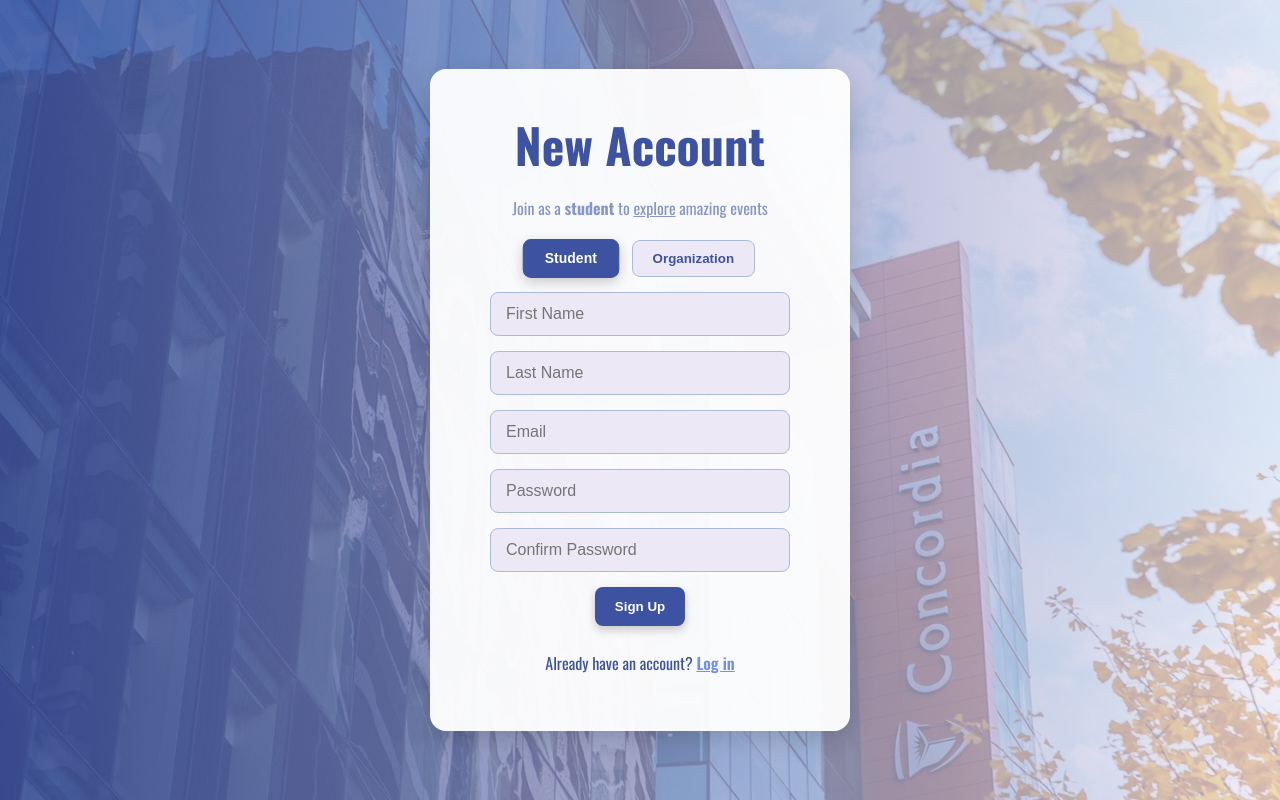
it: Signup Component › successful signup shows verify email screen
This screenshot has width=1280, height=800.
# Fill required fields
Type "John" into the field with placeholder "First Name" at (640, 314), box [490, 292, 790, 336]
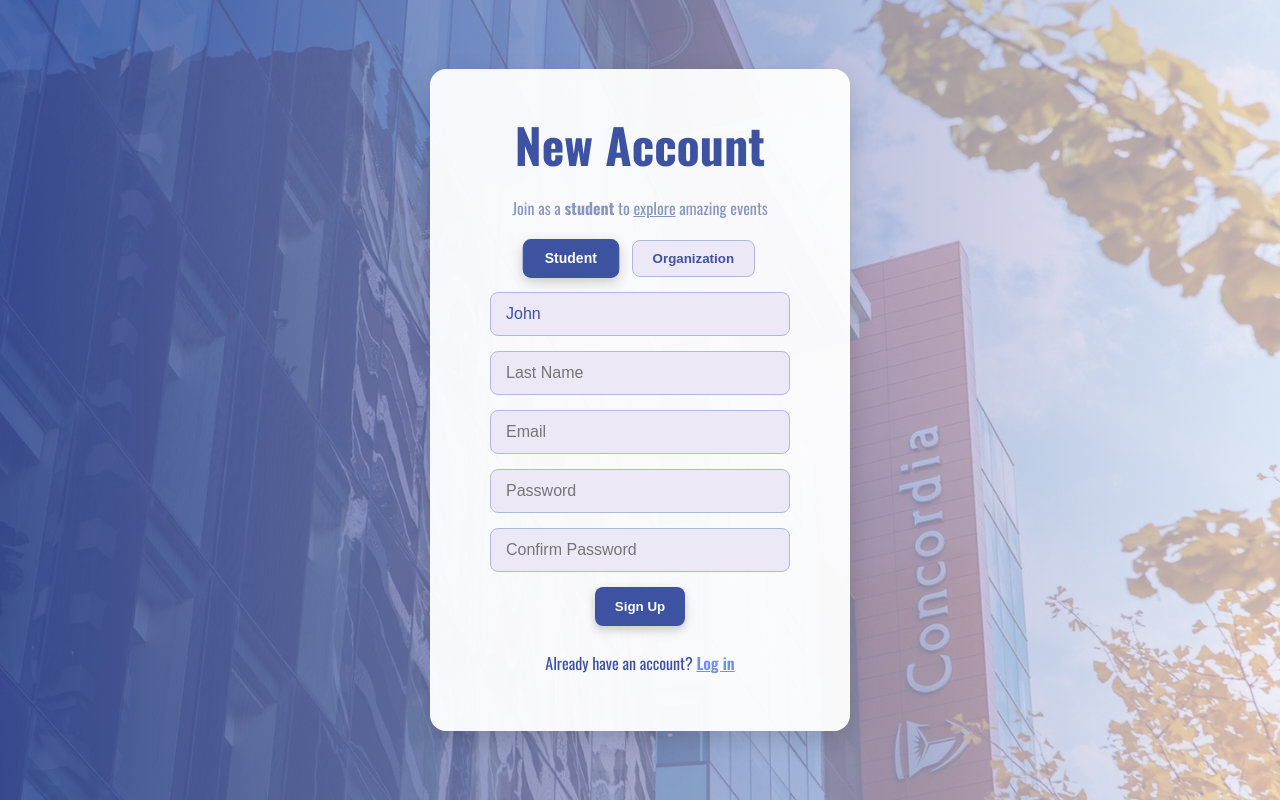
Type "Doe" into the field with placeholder "Last Name" at (640, 373), box [490, 351, 790, 395]
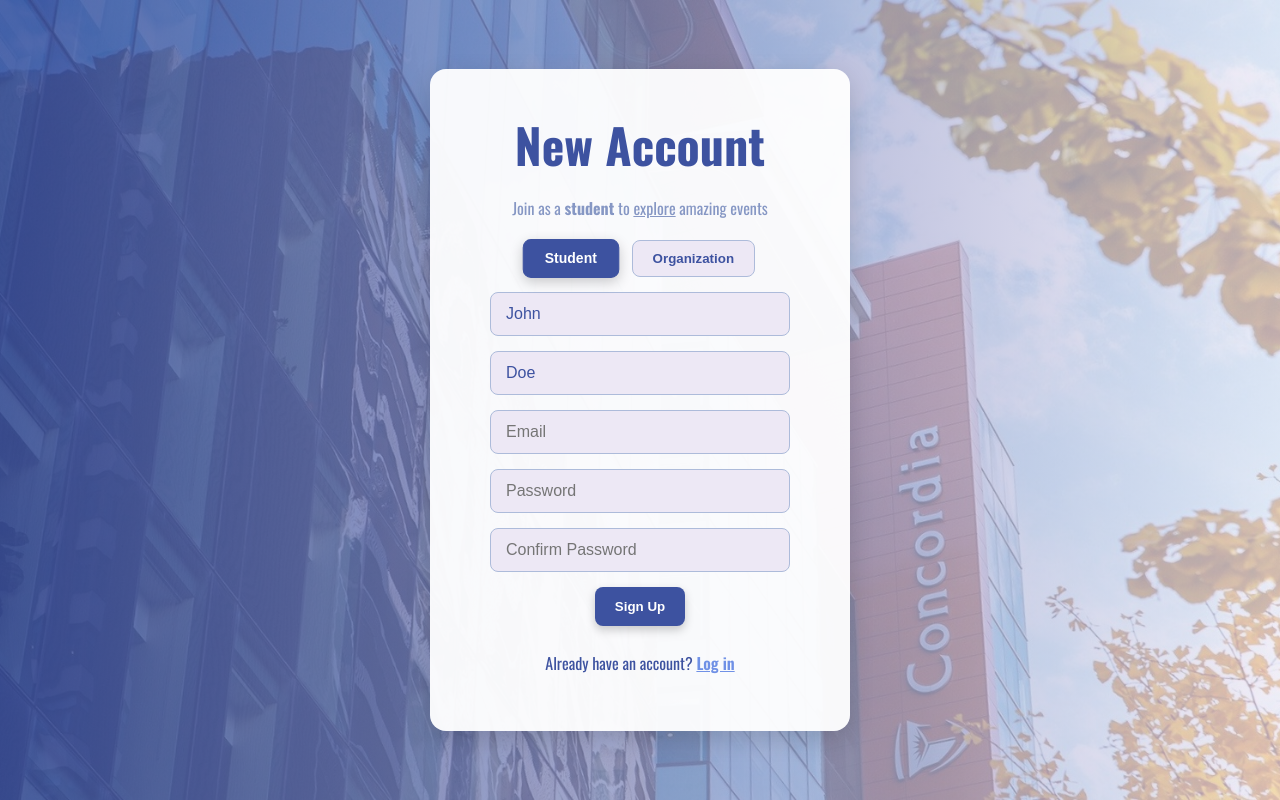
Type "test@example.com" into the field with placeholder "Email" at (640, 432), box [490, 410, 790, 454]
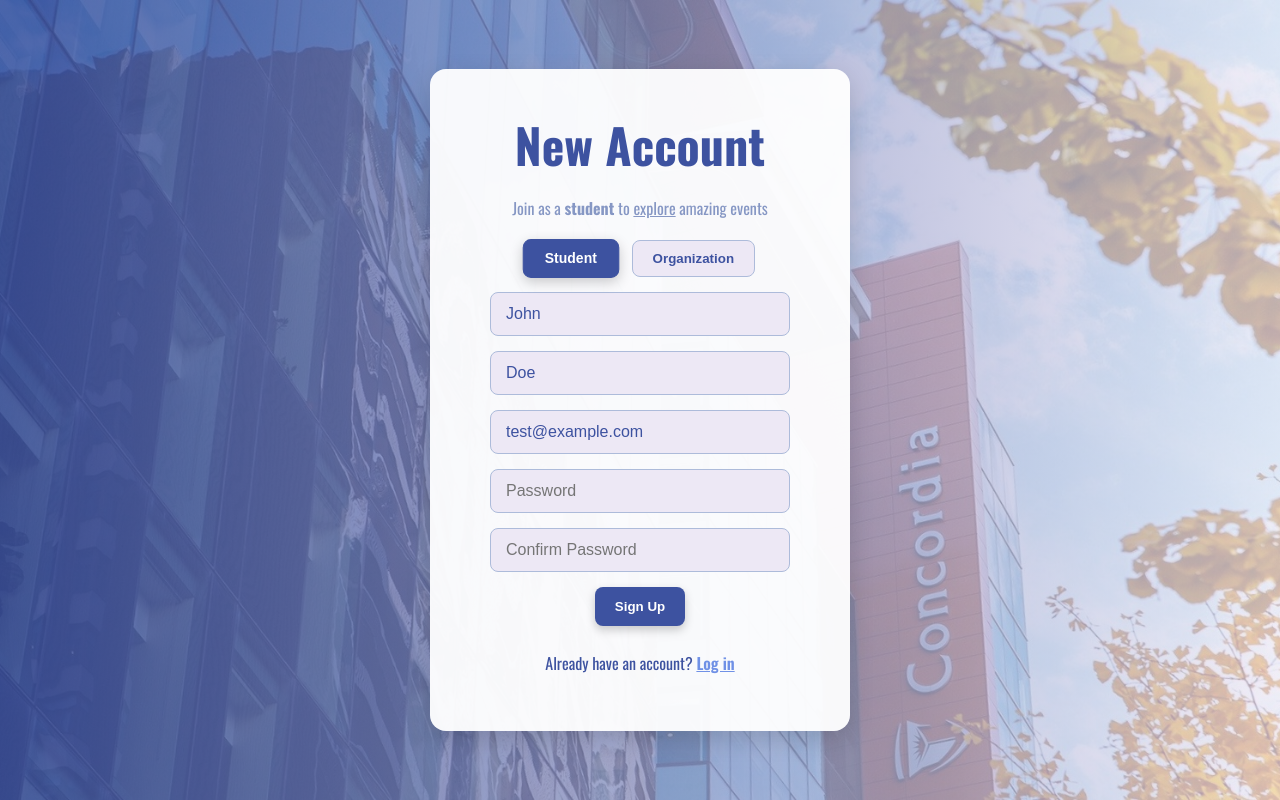
Type "Password1" into the password field with placeholder "Password" at (640, 491), box [490, 469, 790, 513]
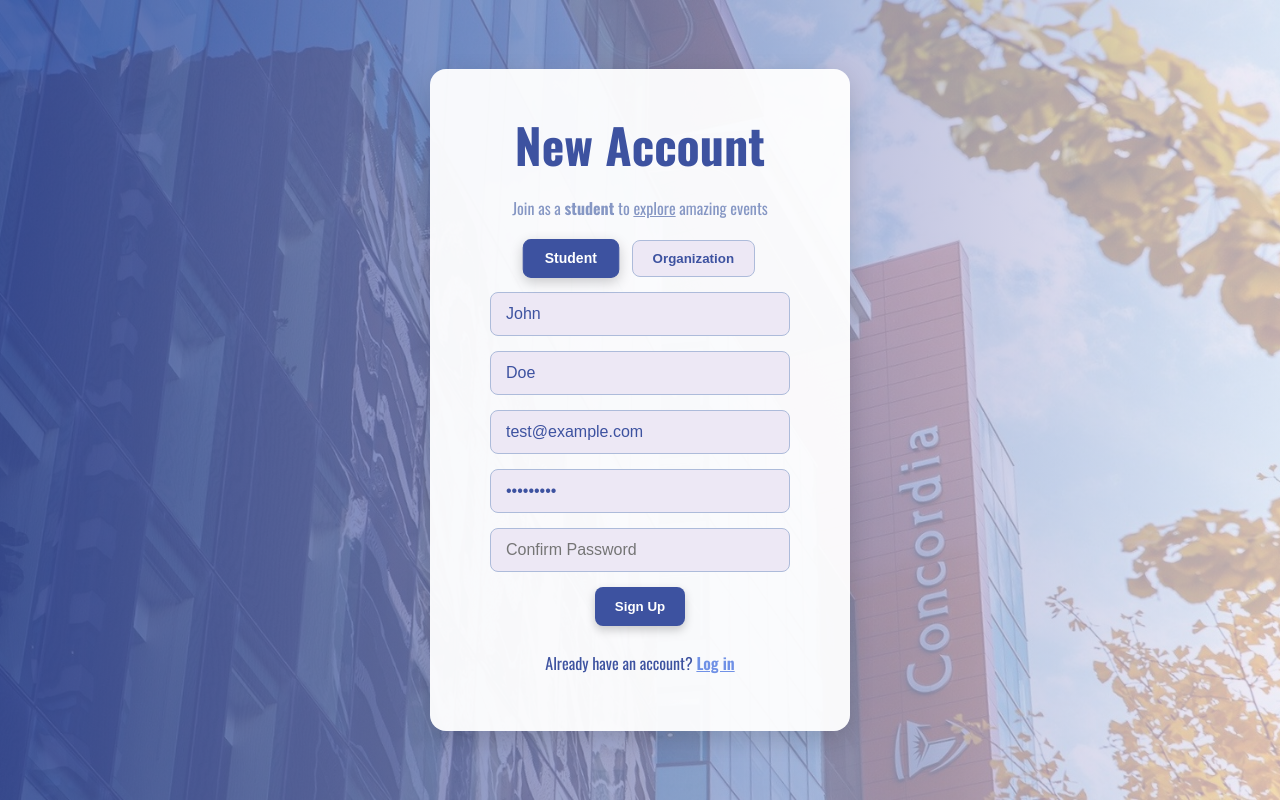
Type "Password1" into the password field with placeholder "Confirm Password" at (640, 550), box [490, 528, 790, 572]
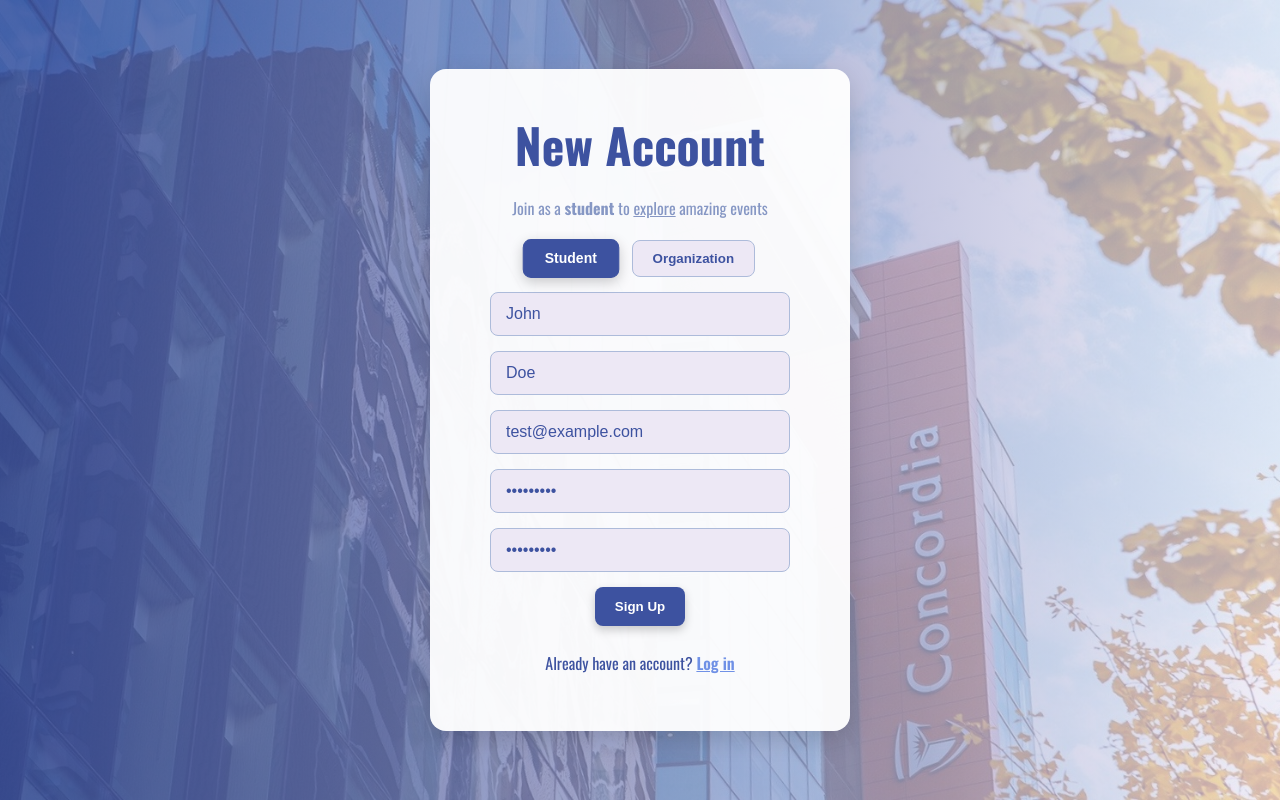
Click the button "Sign Up" at (640, 606), box [595, 587, 685, 626]
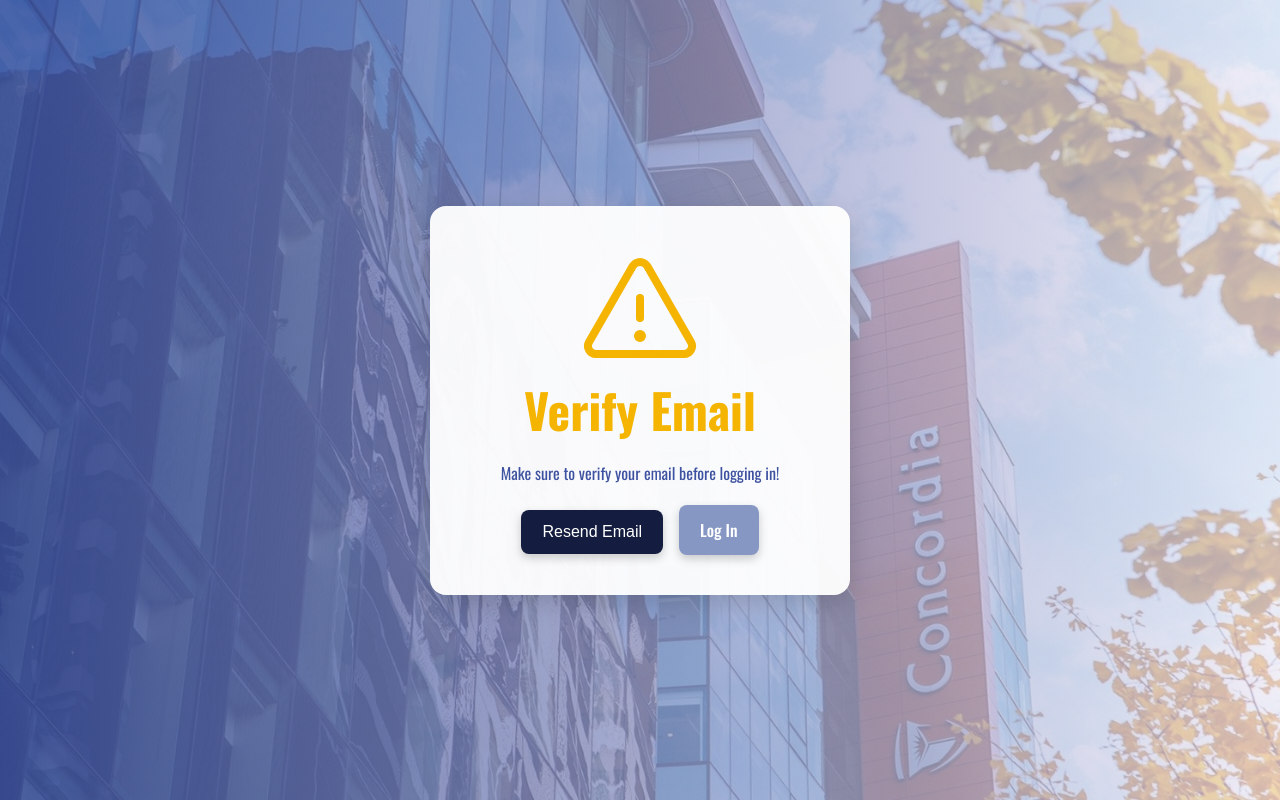
Expected: the heading "Verify Email" is shown, [524, 374, 756, 444]
